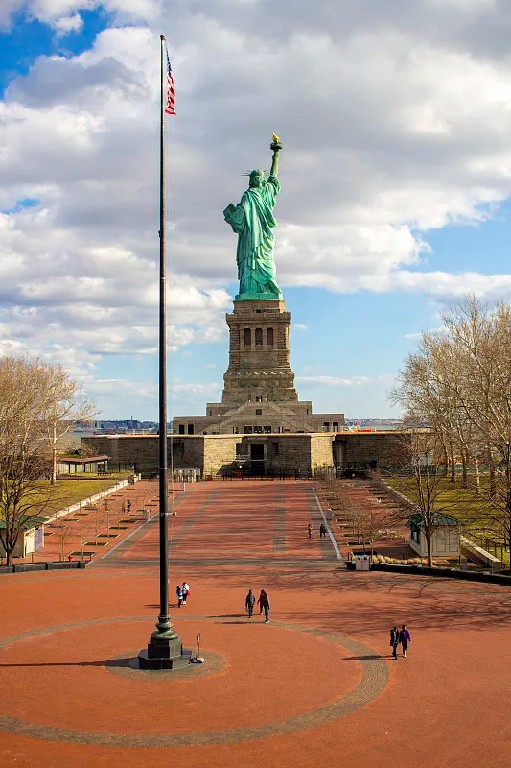SL: (221, 131, 300, 402)
